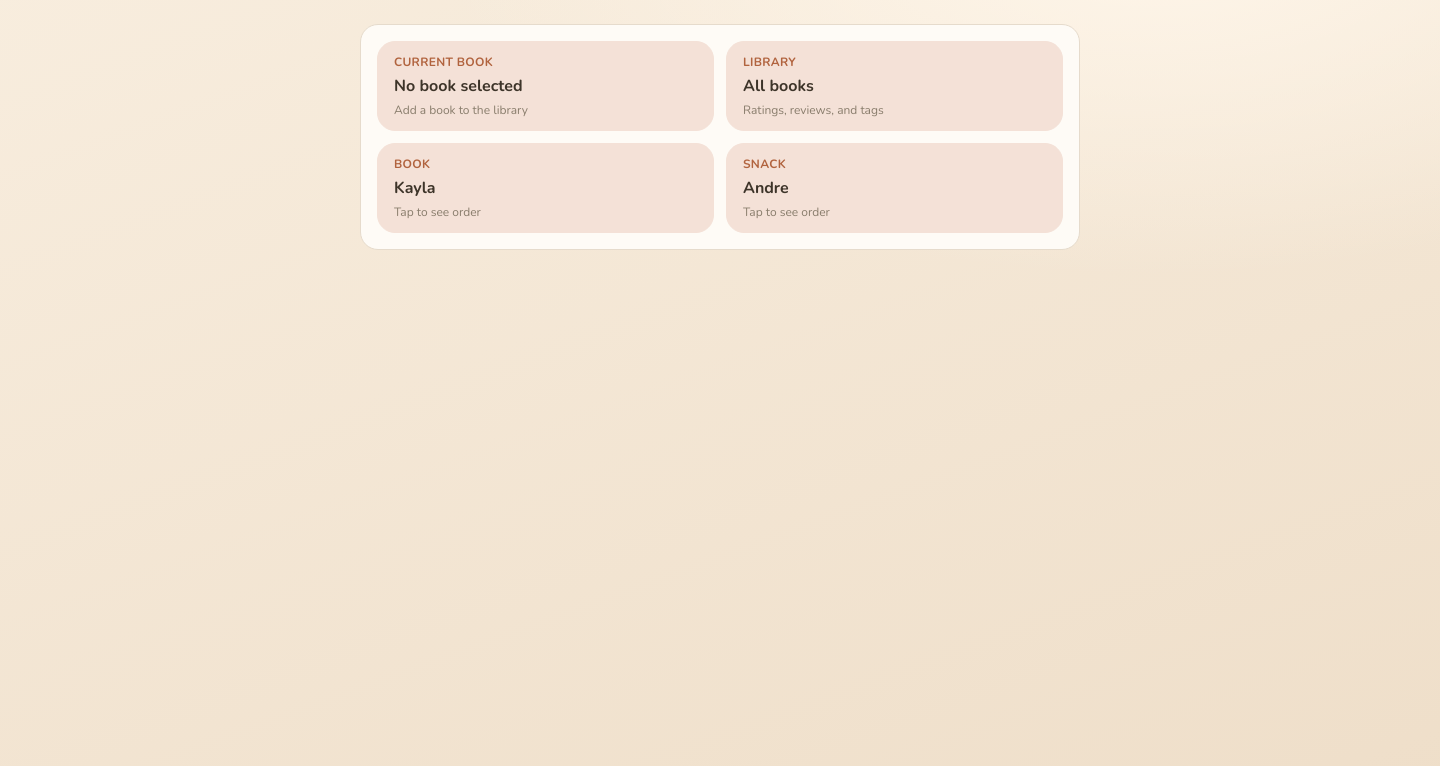
BookClub cards and library › offers admins a way to restore a completed book when none is current
The width and height of the screenshot is (1440, 766).
Click the button "Library All books Ratings, reviews, and tags".
click(770, 62)  # box [726,41,1063,131]
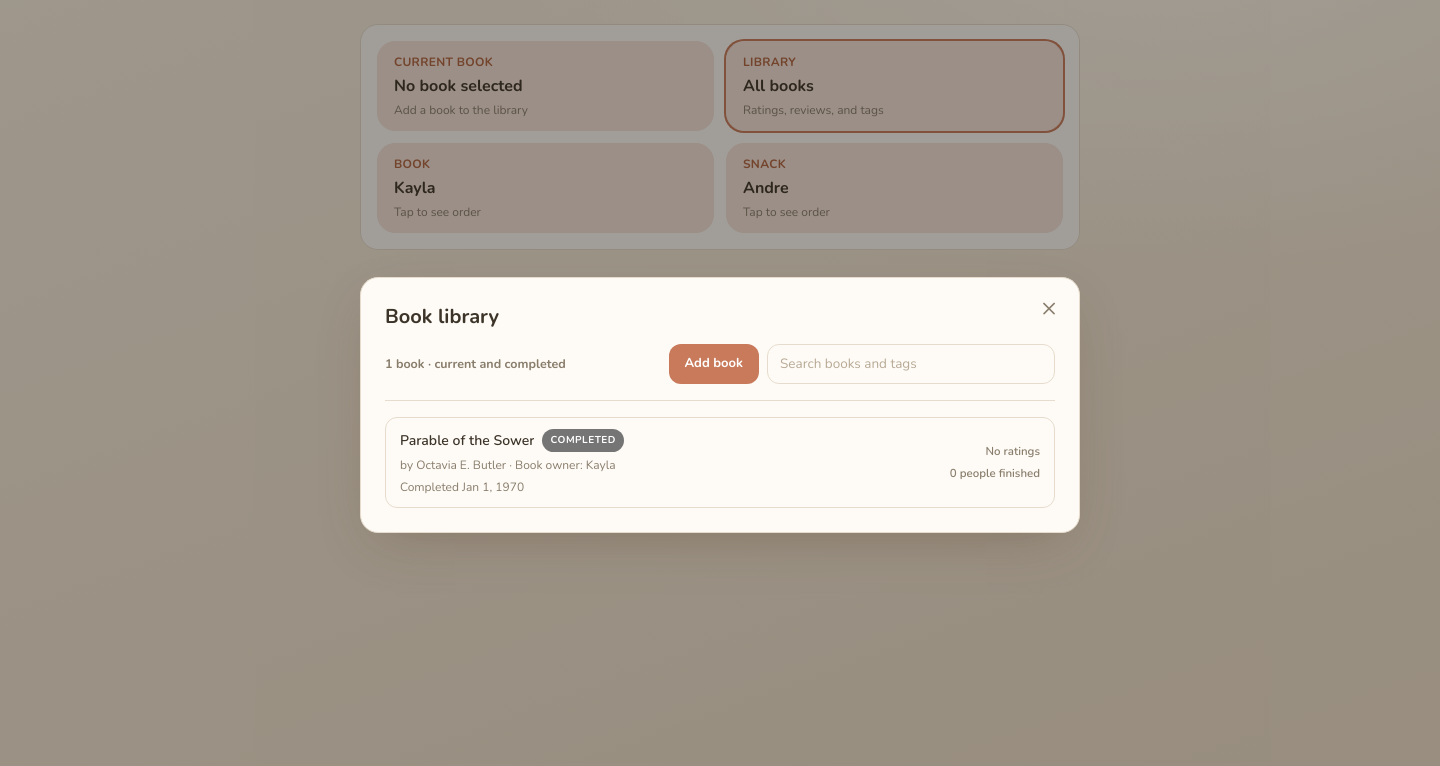
Click the button "Parable of the Sower".
click(467, 440)  # box [385,417,1055,508]
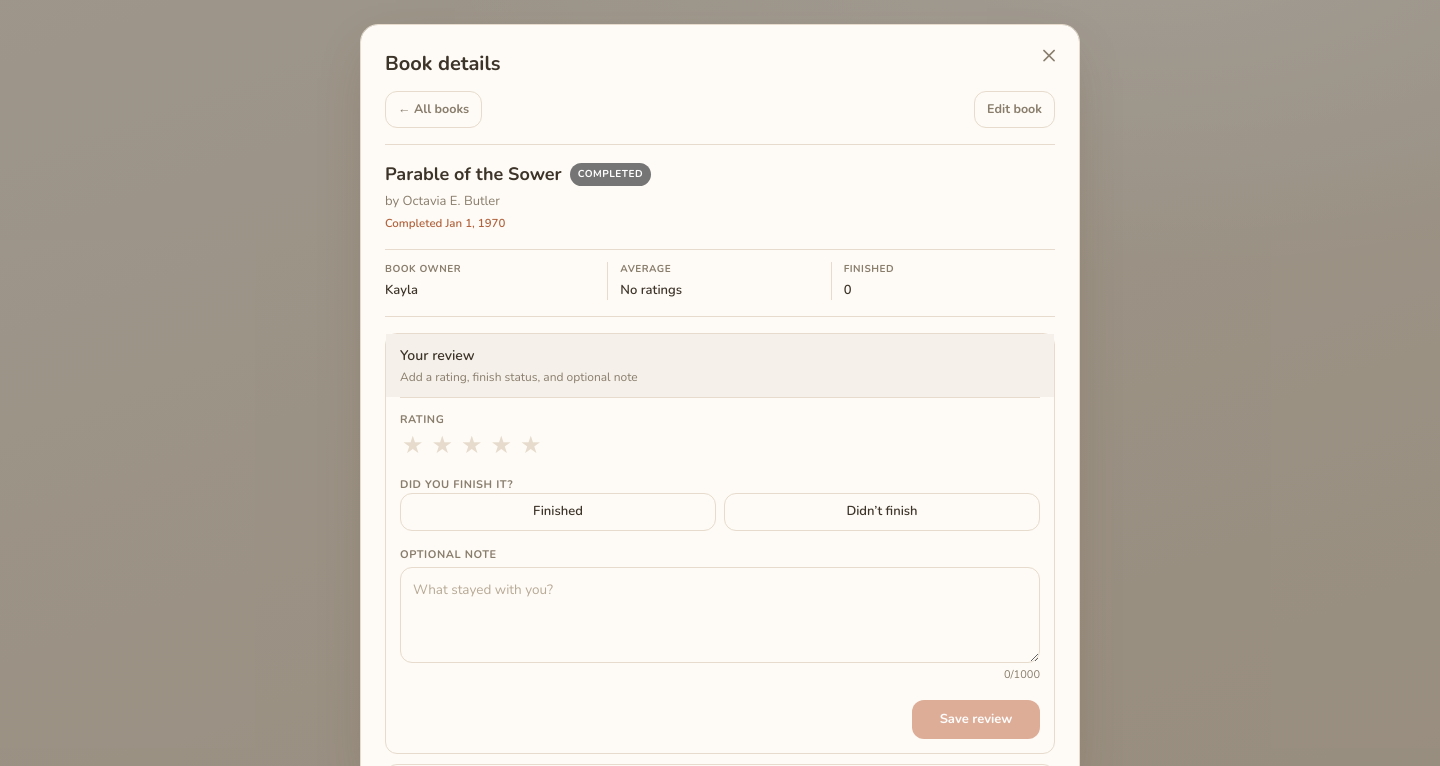
Click the button "Edit book".
click(1015, 109)  # box [974,91,1055,128]
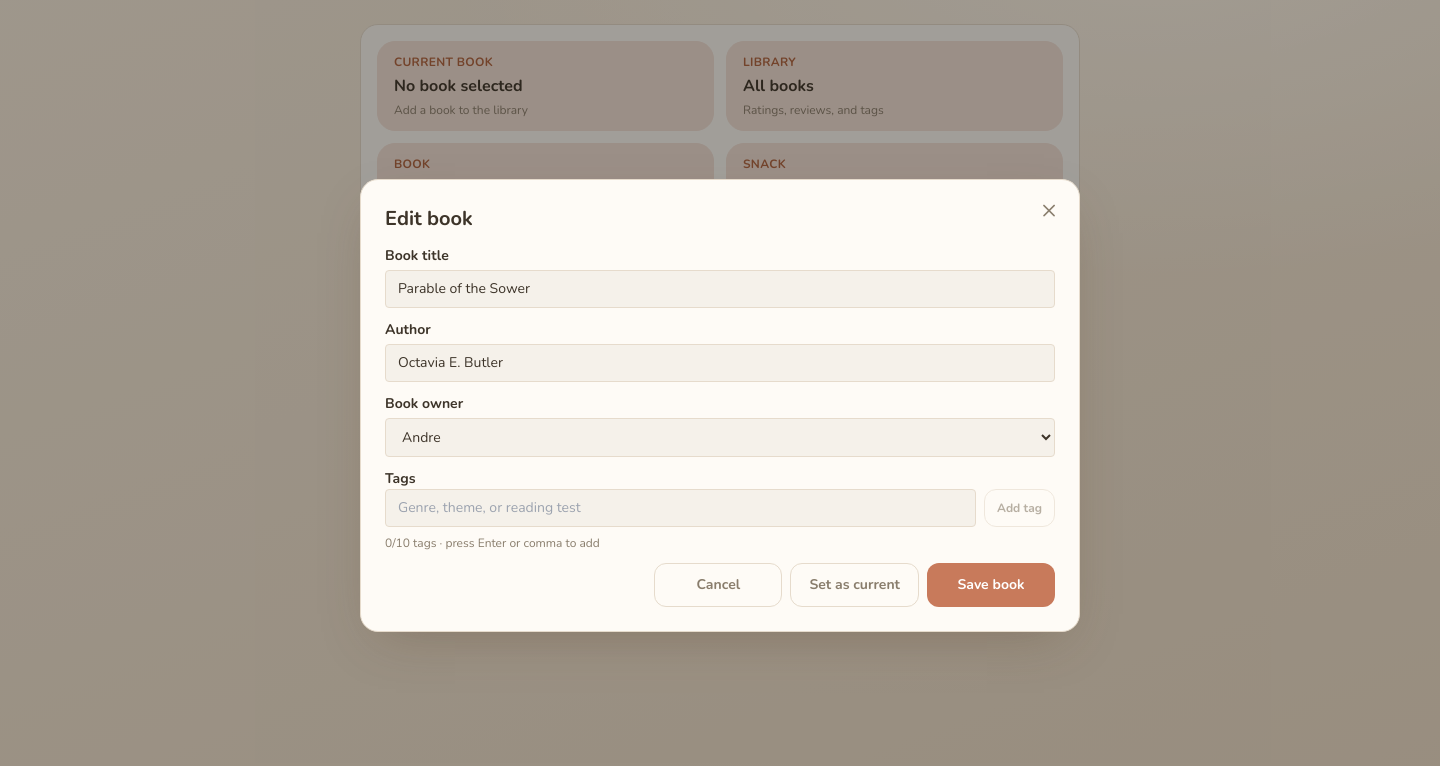
Expected: the button "Set as current" is shown, [790,562,919,606]
